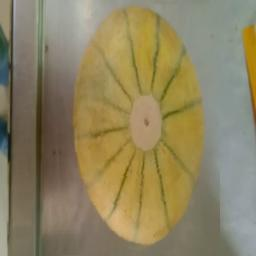Melon Fresh: (53, 4, 220, 256)
